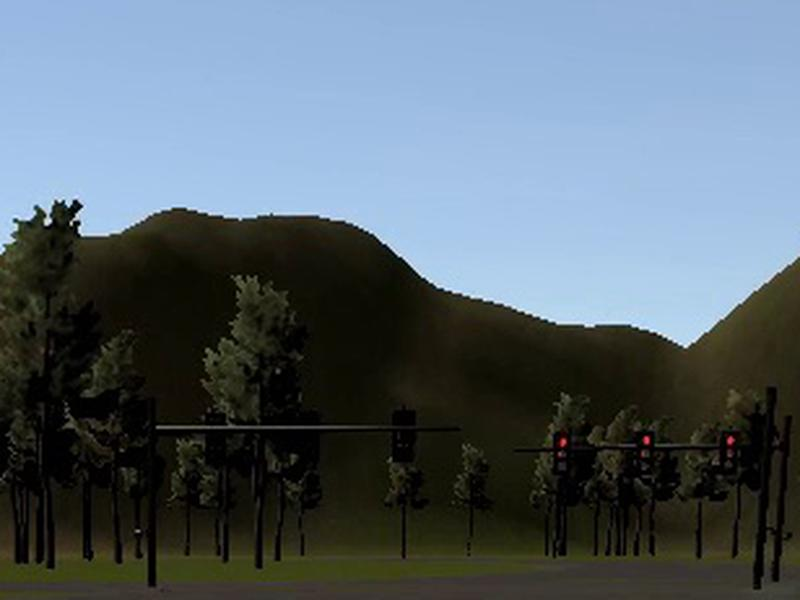Red: (635, 431, 655, 475), (553, 431, 571, 475), (721, 432, 739, 476)
